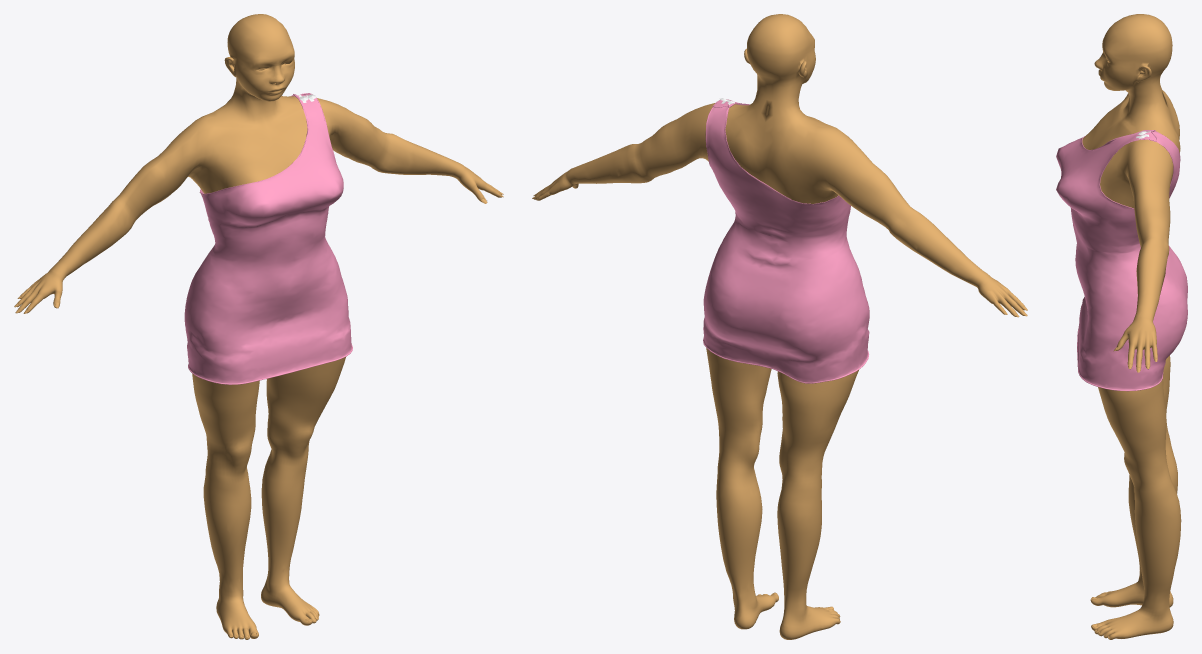
File: dress1.glb
3 views of the same model, side by side, from view 1: azimuth 30°, elevation 25°; view 2: azimuth 150°, elevation 25°; view 3: azimuth 270°, elevation 25° (orthographic).
Parts seen in each view (by area): view 1: Body, WhiteDress; view 2: Body, WhiteDress; view 3: Body, WhiteDress.
Boxes of the visible parts, x1=… form: Body: x1=16, y1=14, x2=503, y2=639; WhiteDress: x1=184, y1=93, x2=352, y2=384; Body: x1=533, y1=14, x2=1024, y2=639; WhiteDress: x1=703, y1=98, x2=869, y2=383; Body: x1=1082, y1=14, x2=1181, y2=639; WhiteDress: x1=1056, y1=130, x2=1187, y2=391.
Bounding box in the file's own units: 1.58 × 1.85 × 0.3678.
